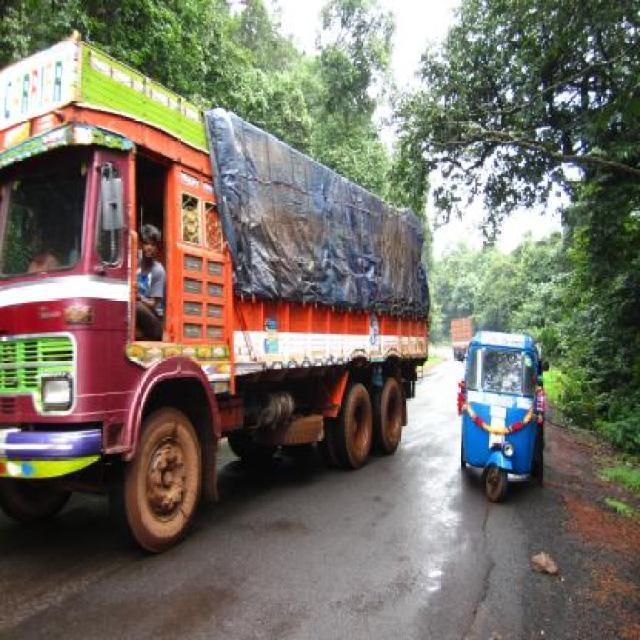truck: (4, 29, 422, 523)
